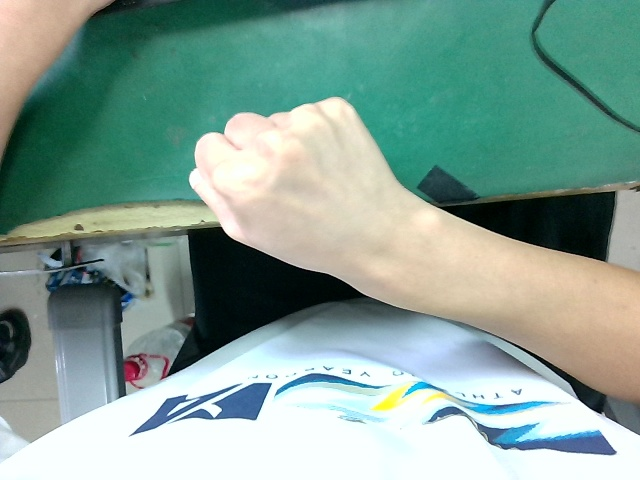stone: (180, 94, 390, 277)
